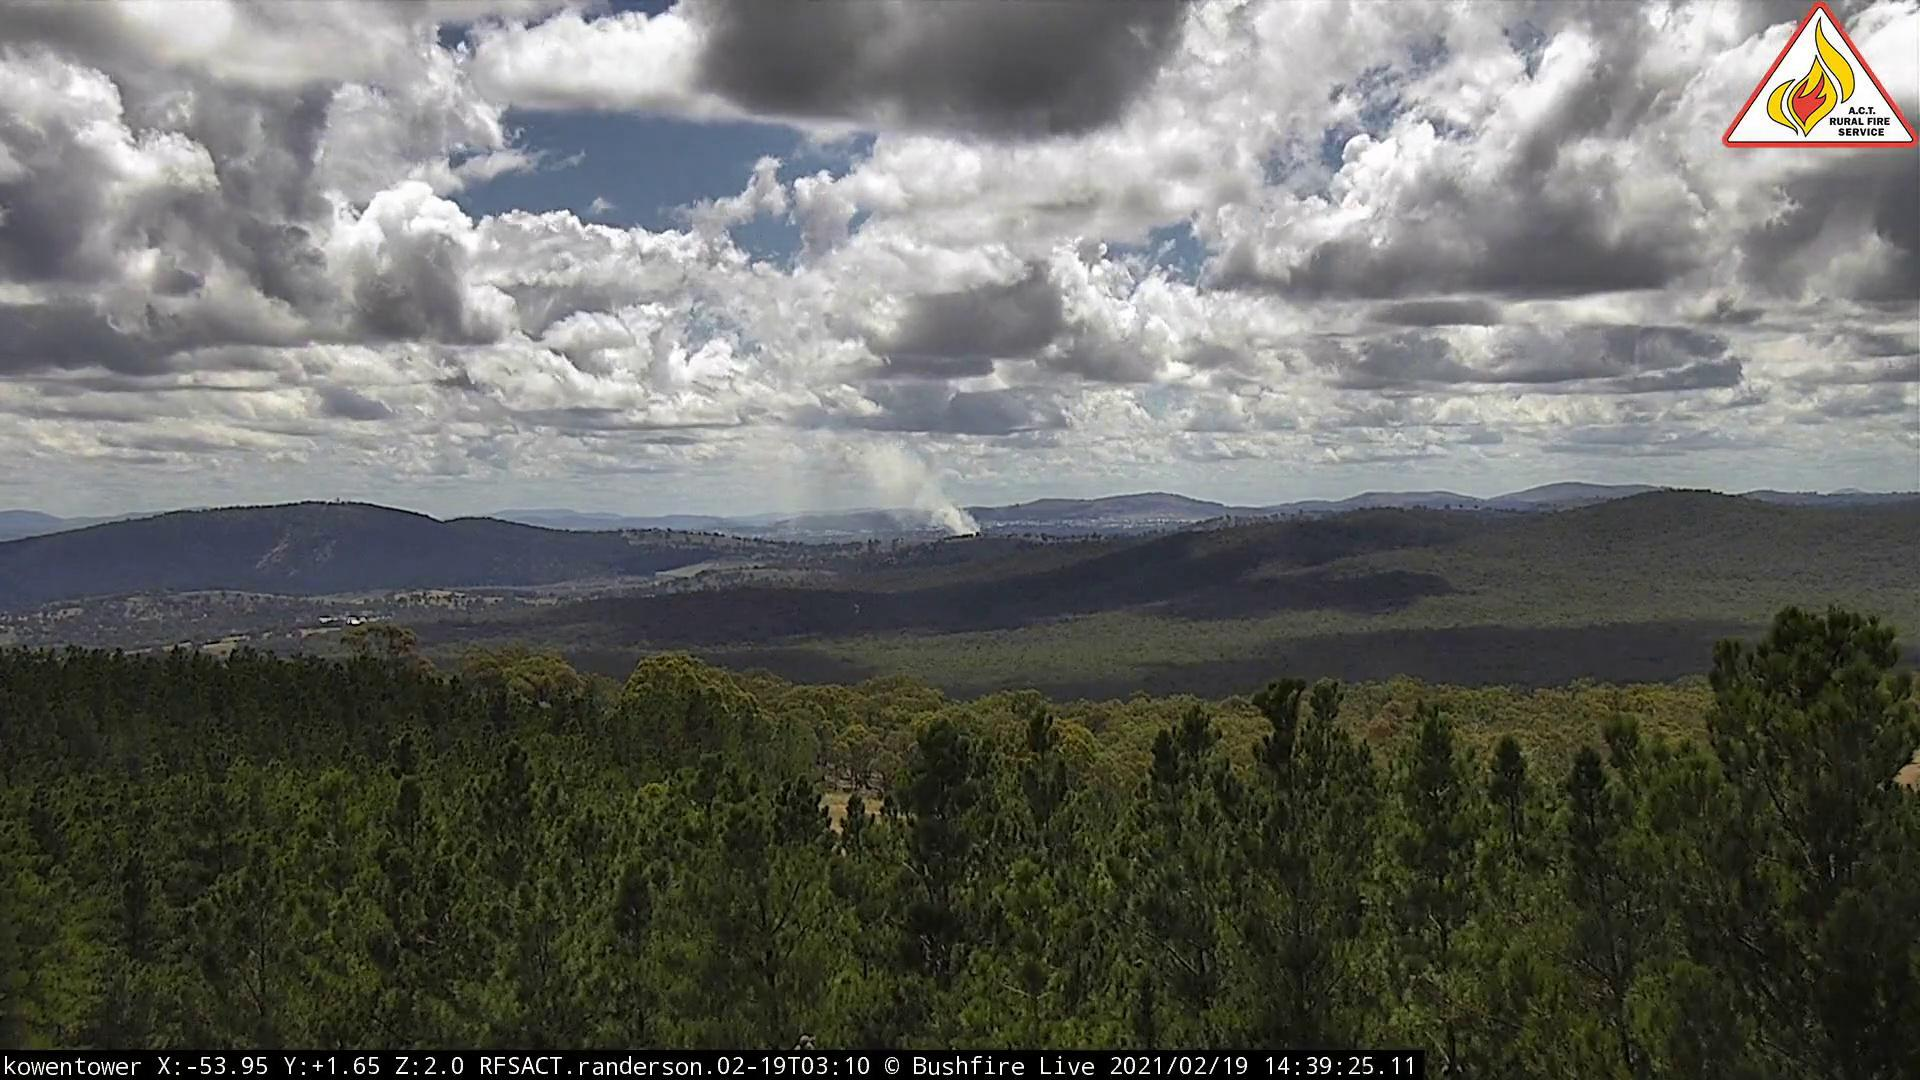Smoke: (740, 436, 992, 545)
